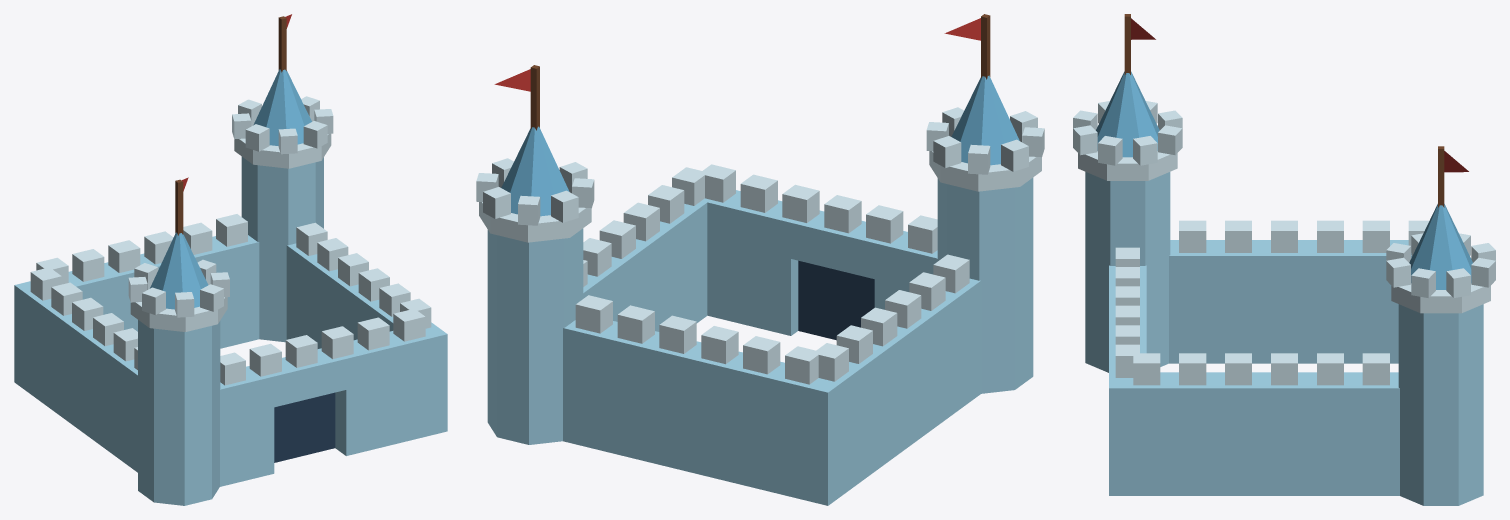
Rendered from snow-castle.glb.
3 views of the same model, side by side, from view 1: azimuth 30°, elevation 25°; view 2: azimuth 150°, elevation 25°; view 3: azimuth 270°, elevation 25° (orthographic). The views are drawn at different scales.
Parts seen in each view (by area): view 1: snow-castle; view 2: snow-castle; view 3: snow-castle.
Boxes of the visible parts, x1,y1,x2,y2 form: snow-castle: (14, 14, 447, 505); snow-castle: (476, 14, 1044, 505); snow-castle: (1073, 14, 1495, 505).
Size of the model in its own units: 0.7828 by 0.695 by 0.7828.
